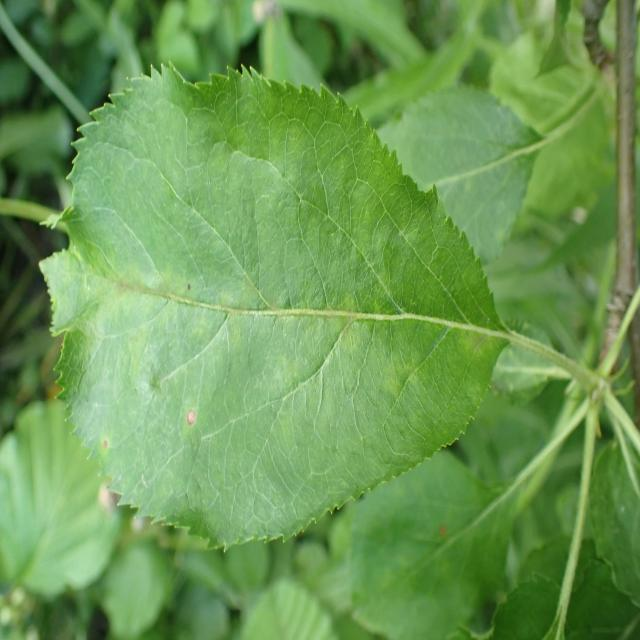scab: (54, 167, 538, 532)
